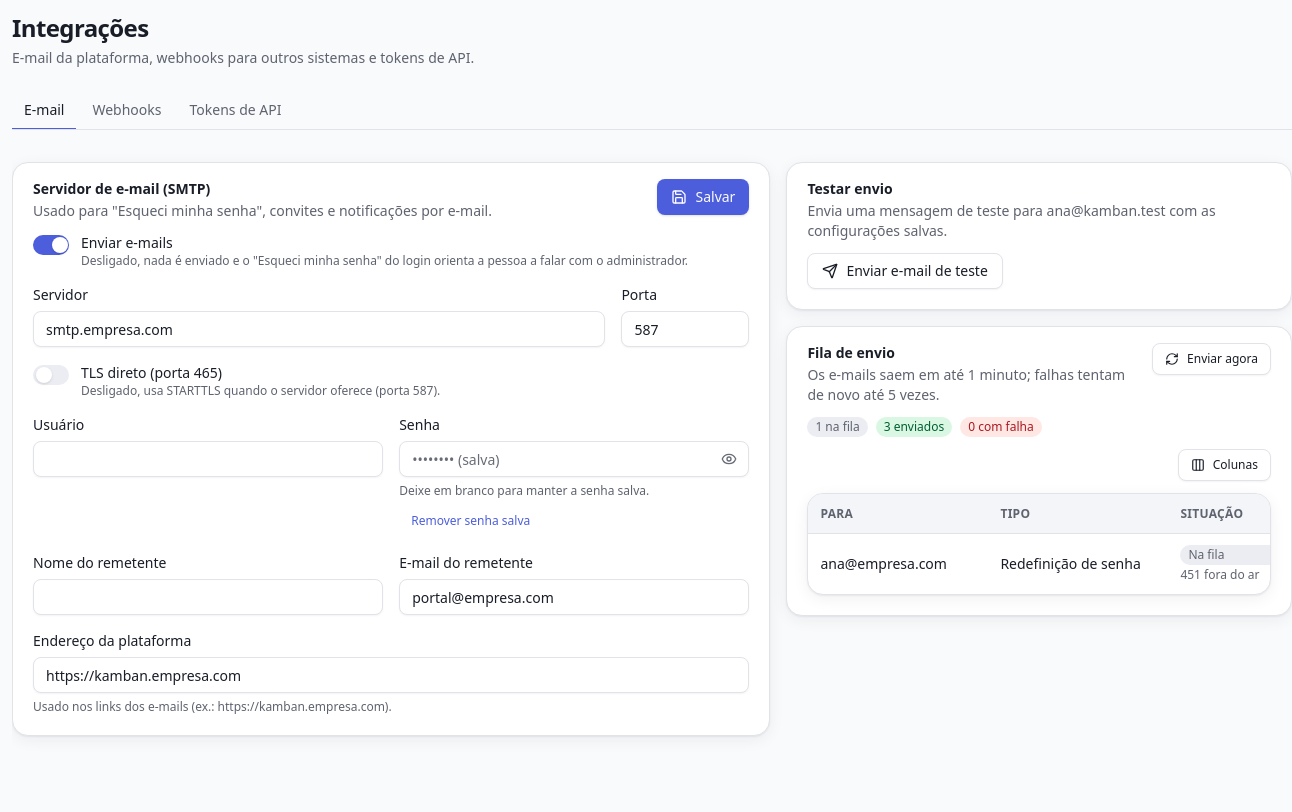
Scenario: Integrações — e-mail › ligado sem endereço da plataforma não salva
Clear the field labelled "Endereço da plataforma" at x=391, y=675, box x1=33 y1=657 x2=749 y2=693
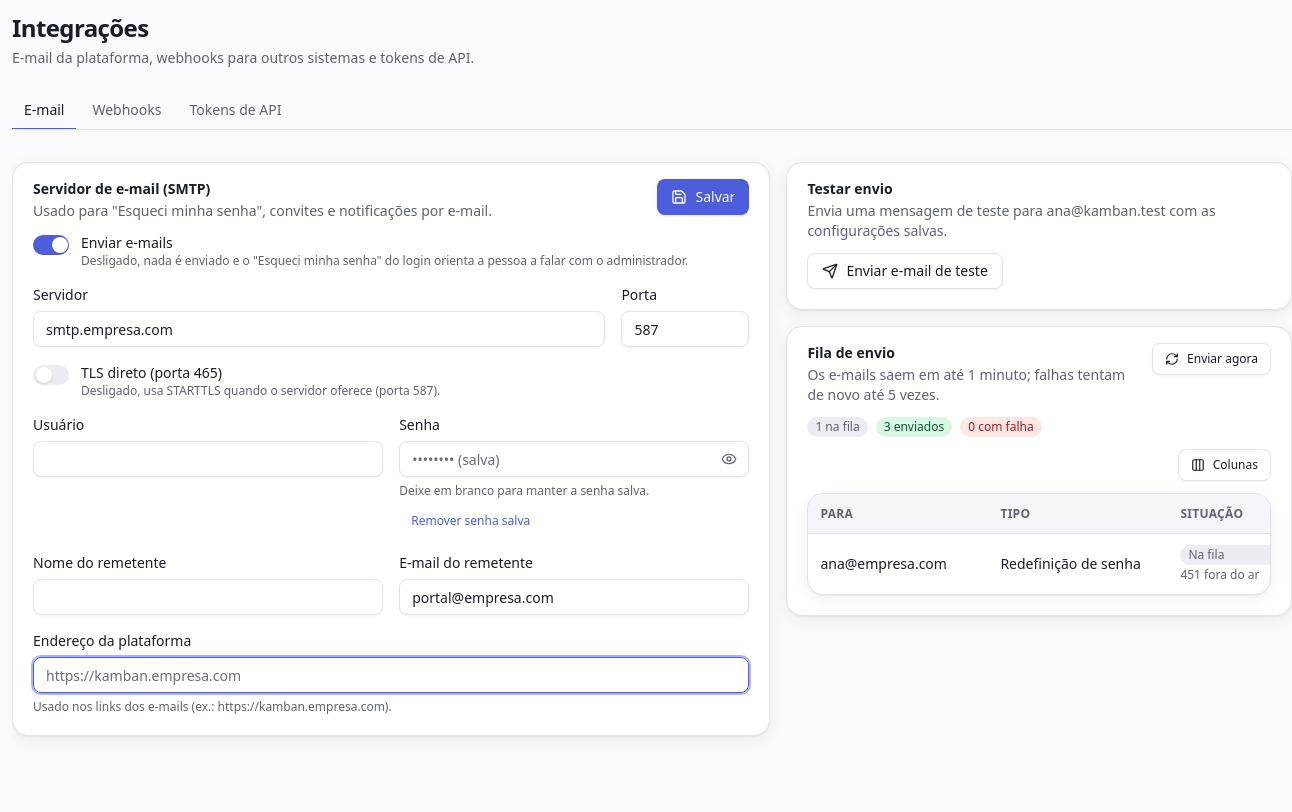
Click the button "Salvar" at x=703, y=197, box x1=658 y1=179 x2=749 y2=215
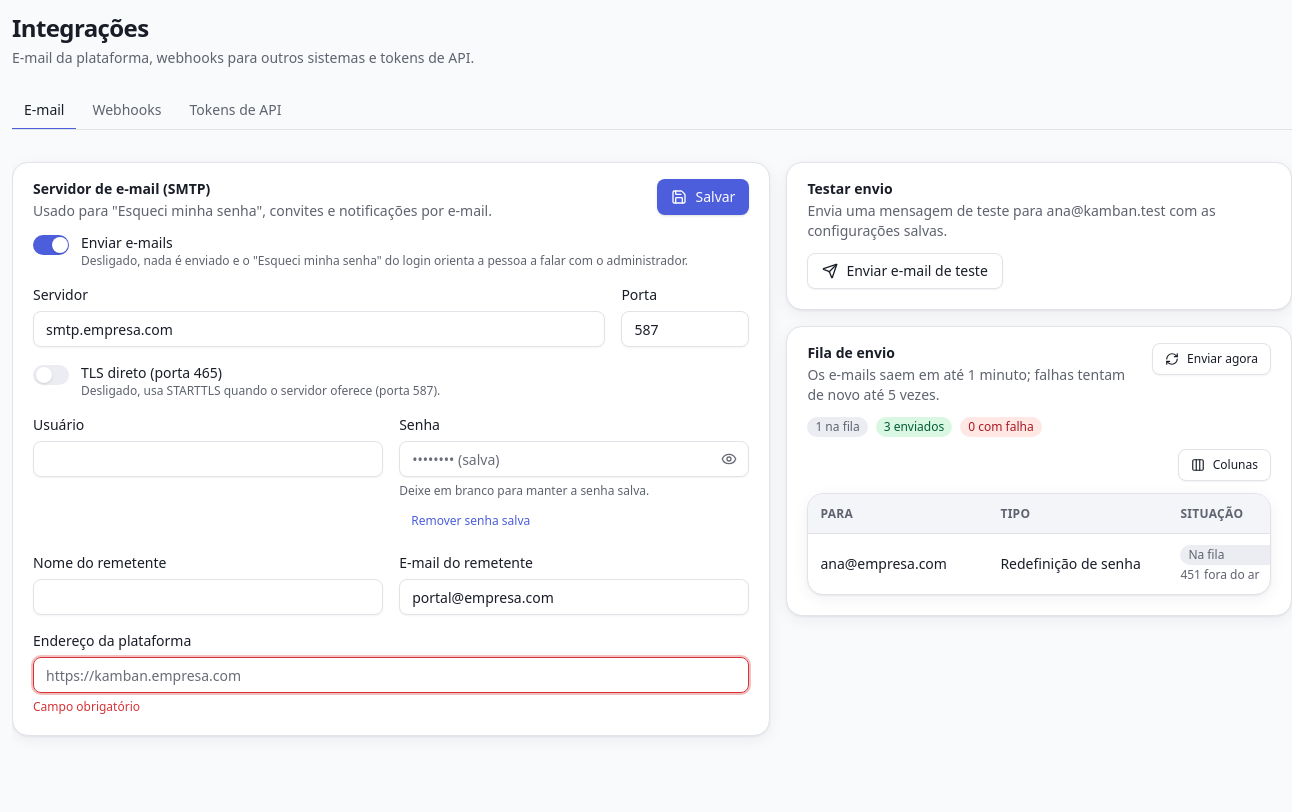
Result: the text "Campo obrigatório" is shown at x1=33 y1=698 x2=140 y2=715
